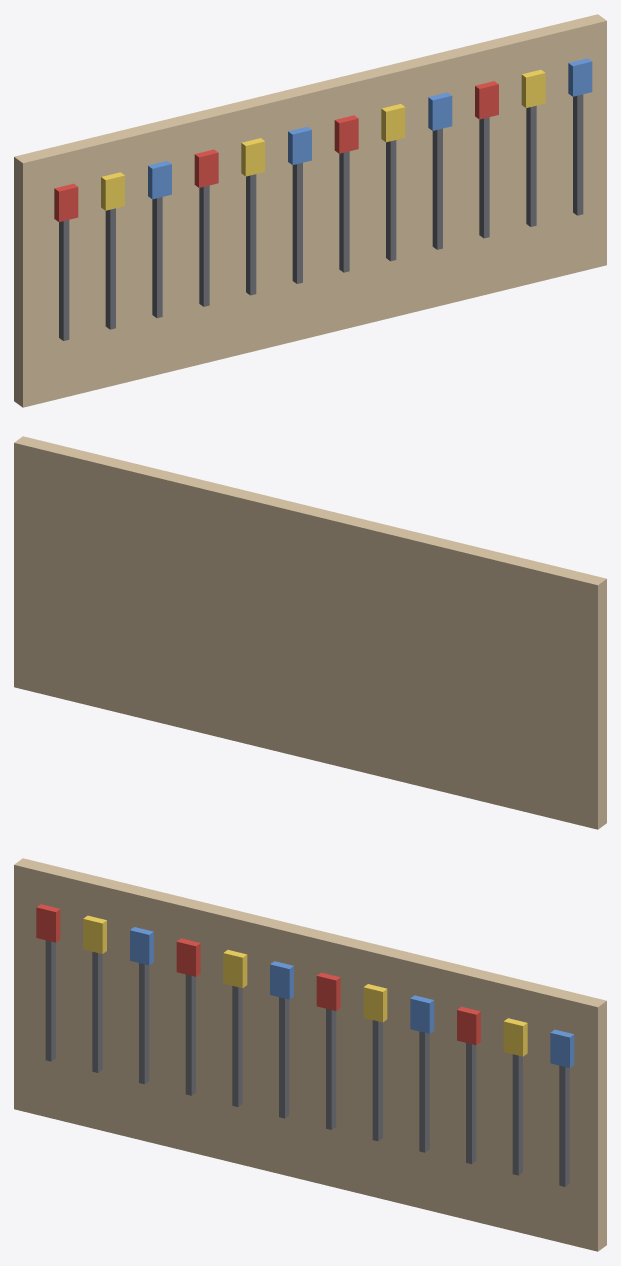
The model's file is workshop_pegboard.glb.
The picture shows the model from 3 angles, top to bottom: view 1: azimuth 30°, elevation 25°; view 2: azimuth 150°, elevation 25°; view 3: azimuth 330°, elevation 25°; orthographic projection.
Visible parts, largest first — view 1: workshop_pegboard; view 2: workshop_pegboard; view 3: workshop_pegboard.
Part boxes in pixels (x1=…): workshop_pegboard: x1=14, y1=14, x2=606, y2=407; workshop_pegboard: x1=14, y1=436, x2=606, y2=829; workshop_pegboard: x1=14, y1=858, x2=606, y2=1251.
Bounding box in the file's own units: 3 × 1.2 × 0.14.
